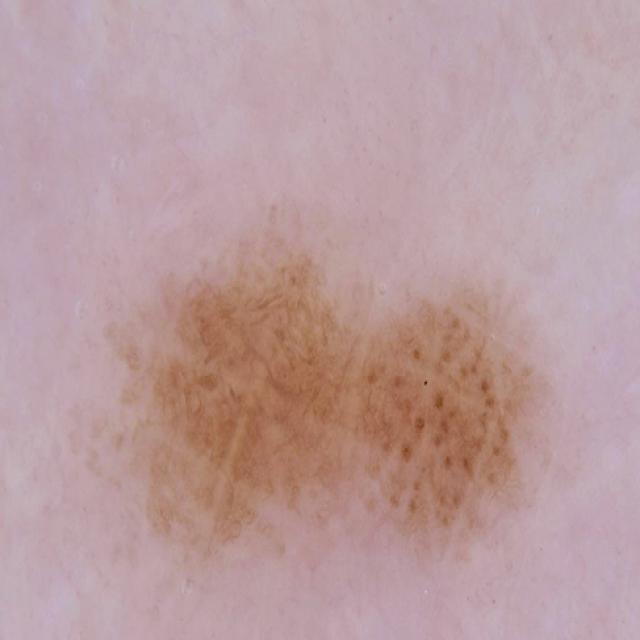Keratosis: (104, 106, 571, 612)
